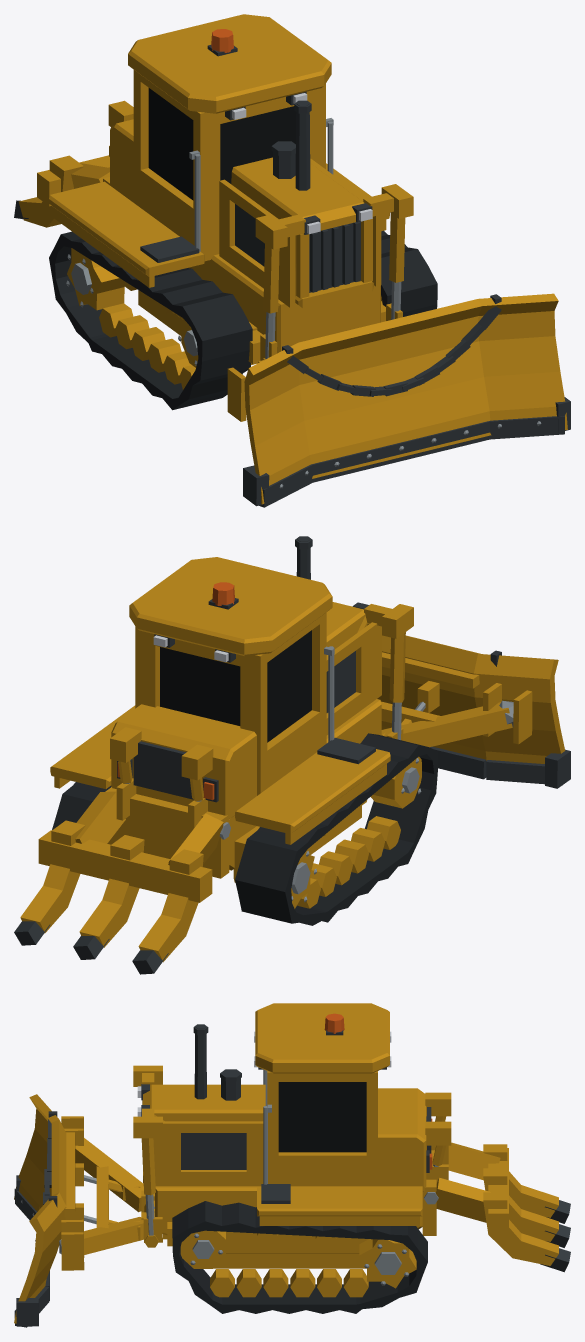
Rendered from crawler-bulldozer-b851fb.glb.
The picture shows the model from 3 angles, top to bottom: view 1: azimuth 30°, elevation 25°; view 2: azimuth 150°, elevation 25°; view 3: azimuth 270°, elevation 25°; orthographic projection. The views are drawn at different scales.
Parts seen in each view (by area): view 1: machine, moldboard, ripper-frame, angle-frame, chain-links, sprocket-r-mesh; view 2: machine, ripper-frame, moldboard, push-frame, idler-r-mesh, angle-frame, sprocket-r-mesh; view 3: machine, ripper-frame, moldboard, push-frame, sprocket-l-mesh, idler-l-mesh, angle-frame, chain-links.
Part boxes in pixels (x1=…): machine: x1=49, y1=14, x2=437, y2=410; moldboard: x1=227, y1=293, x2=570, y2=507; ripper-frame: x1=14, y1=145, x2=109, y2=227; angle-frame: x1=263, y1=213, x2=405, y2=359; chain-links: x1=282, y1=294, x2=501, y2=396; sprocket-r-mesh: x1=66, y1=248, x2=124, y2=310; machine: x1=50, y1=536, x2=437, y2=925; ripper-frame: x1=14, y1=778, x2=223, y2=974; moldboard: x1=377, y1=635, x2=570, y2=788; push-frame: x1=381, y1=700, x2=513, y2=747; idler-r-mesh: x1=370, y1=756, x2=421, y2=808; angle-frame: x1=389, y1=632, x2=405, y2=740; sprocket-r-mesh: x1=291, y1=851, x2=316, y2=908; machine: x1=133, y1=1003, x2=451, y2=1313; ripper-frame: x1=426, y1=1142, x2=570, y2=1272; moldboard: x1=14, y1=1094, x2=84, y2=1327; push-frame: x1=59, y1=1138, x2=162, y2=1254; sprocket-l-mesh: x1=359, y1=1239, x2=416, y2=1288; idler-l-mesh: x1=180, y1=1230, x2=225, y2=1268; angle-frame: x1=141, y1=1100, x2=155, y2=1235; chain-links: x1=43, y1=1111, x2=57, y2=1207.
Bounding box in the file's own units: 3.5 × 3.18 × 6.45.
